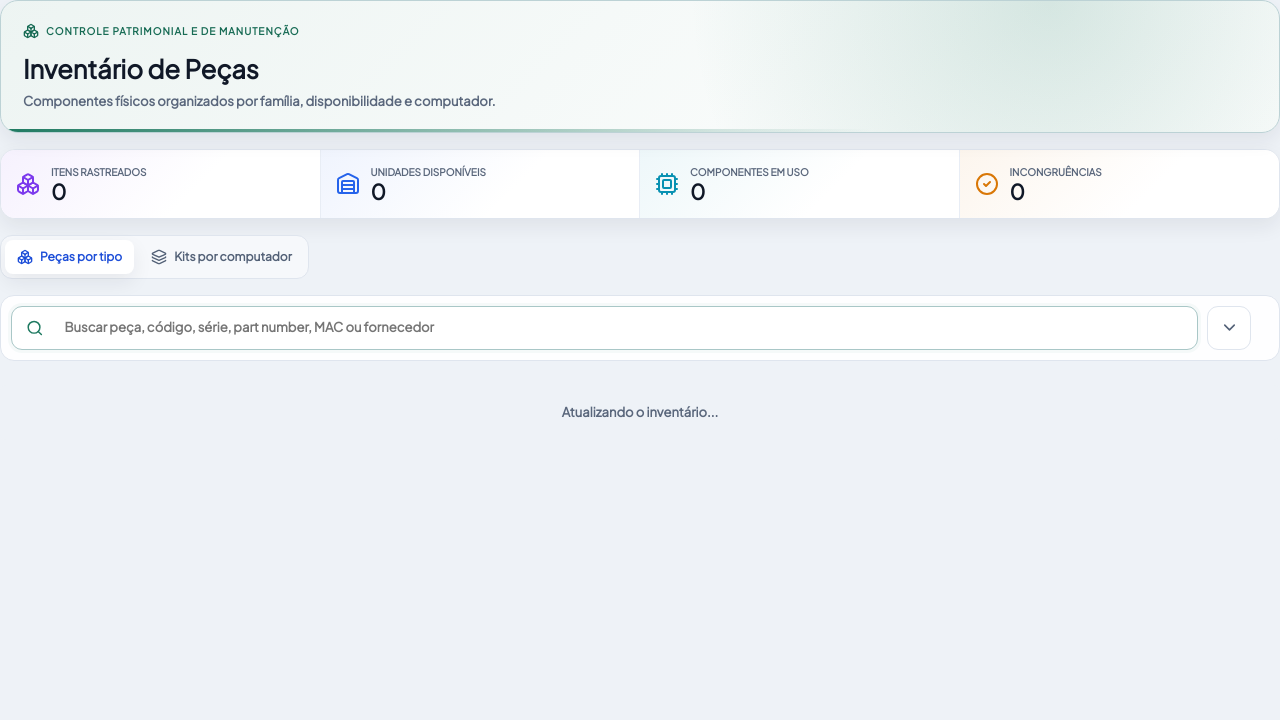
PartsInventoryPage › organiza componentes instalados em kits por computador
Click the button "Kits por computador": (221, 257) [139,240,304,274]
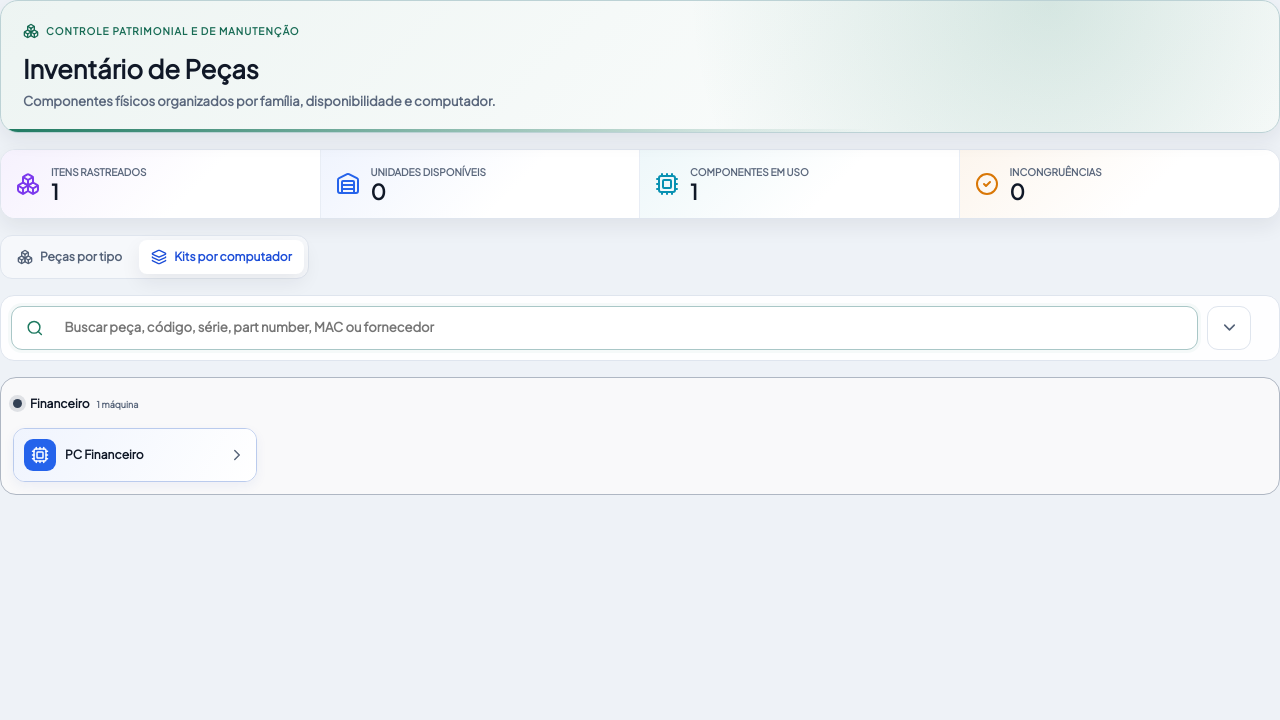
expect the text "Processadores" is not shown: met
Click the button "PC Financeiro": (135, 455) [14,429,256,481]
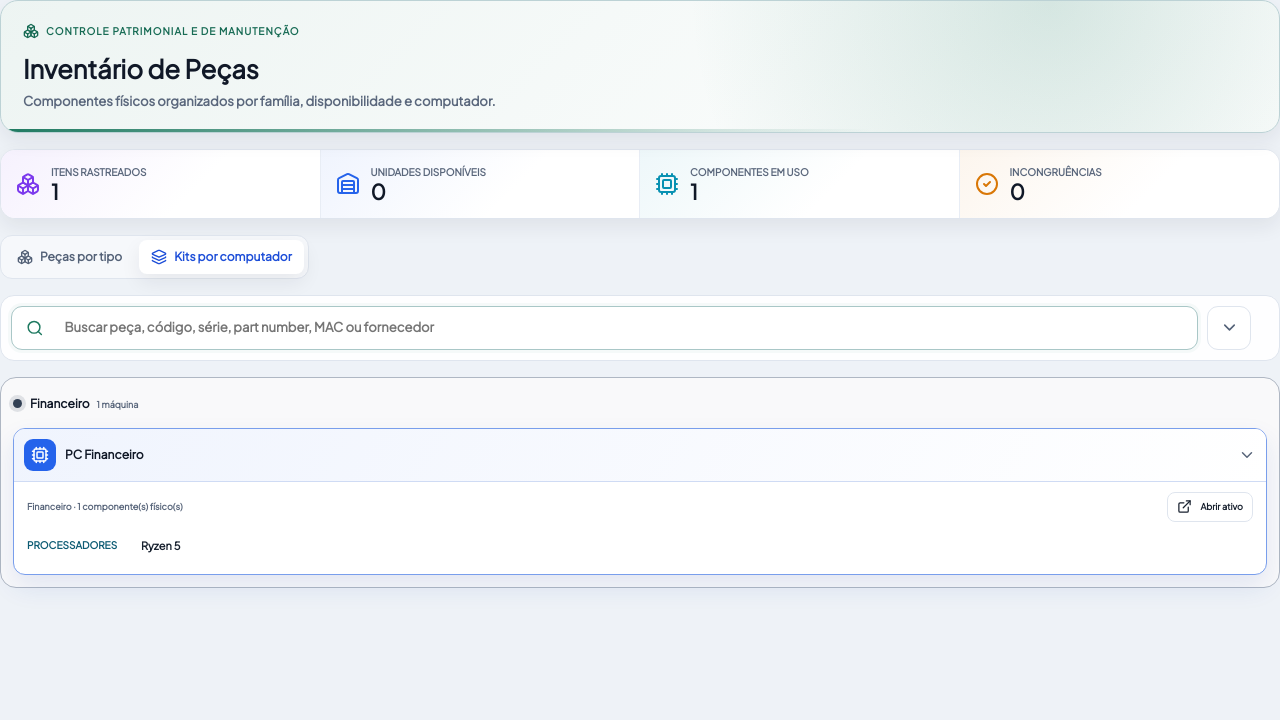
expect the text "Processadores" is shown: met, box [27,538,132,554]
